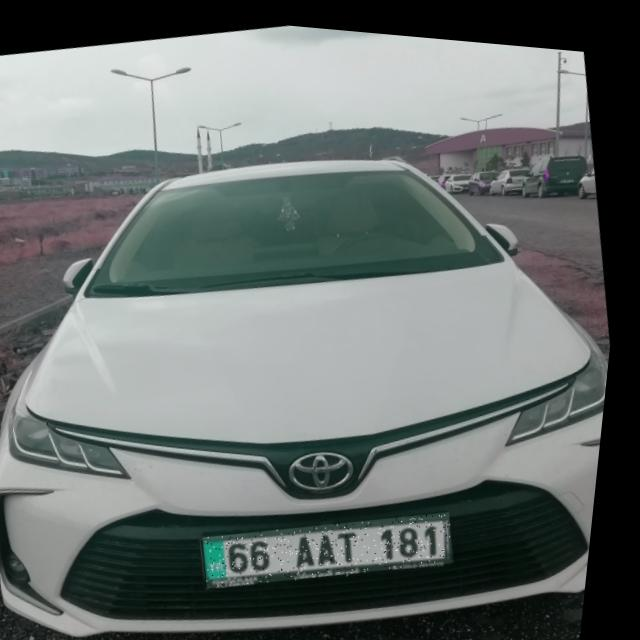license_plate: (210, 486, 469, 600)
